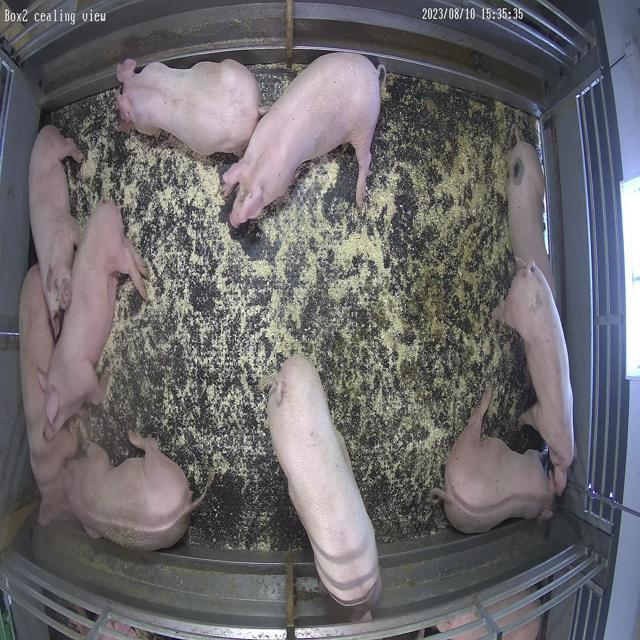Pig: (269, 356, 382, 606), (223, 52, 382, 226), (46, 202, 147, 436), (497, 258, 576, 496), (434, 390, 556, 534), (67, 433, 204, 552), (19, 265, 77, 526), (116, 59, 260, 154), (28, 125, 83, 334), (508, 142, 555, 288)
